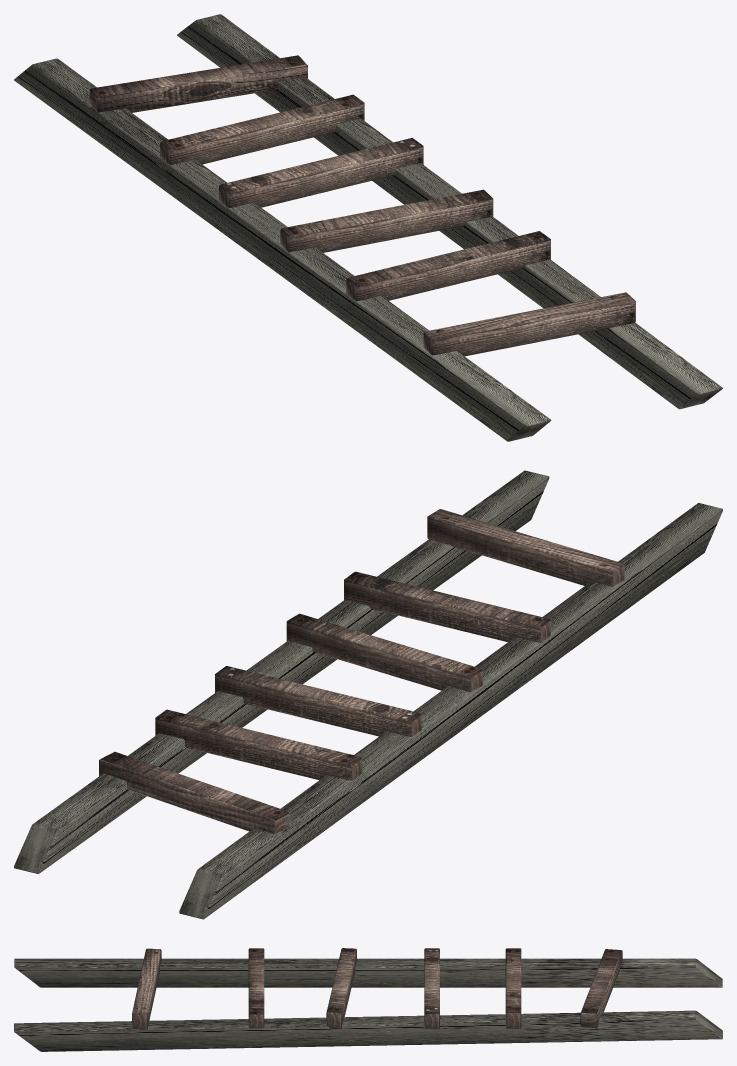
Rendered from ladder.obj.
The picture shows the model from 3 angles, top to bottom: view 1: azimuth 30°, elevation 25°; view 2: azimuth 150°, elevation 25°; view 3: azimuth 270°, elevation 25°; orthographic projection. The views are drawn at different scales.
Parts seen in each view (by area): view 1: ladder_Куб; view 2: ladder_Куб; view 3: ladder_Куб.
Part boxes in pixels (x1,y1,x2,y2): ladder_Куб: [14, 14, 722, 441]; ladder_Куб: [14, 470, 722, 919]; ladder_Куб: [14, 948, 722, 1051].
Bounding box in the file's own units: 5.49 × 1.47 × 24.61.
